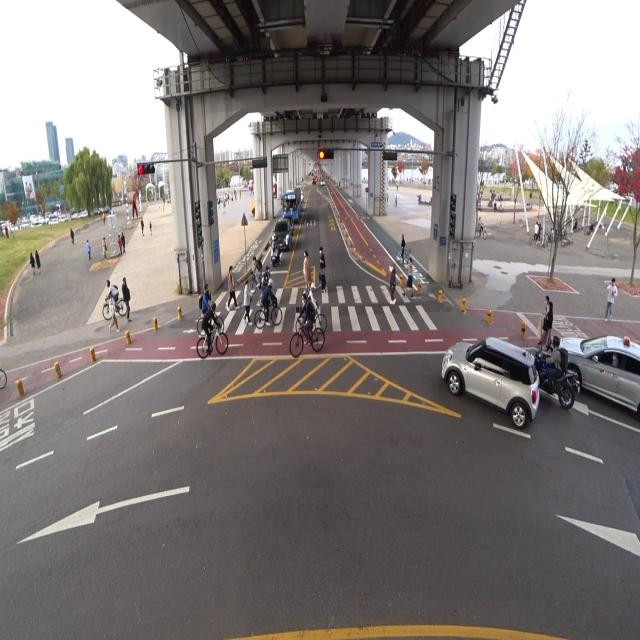Bus: (282, 188, 302, 220)
Car: (436, 322, 544, 441), (553, 313, 640, 439), (271, 219, 293, 255), (283, 214, 294, 231)
Motorcycle: (524, 328, 574, 412), (268, 233, 284, 268)
